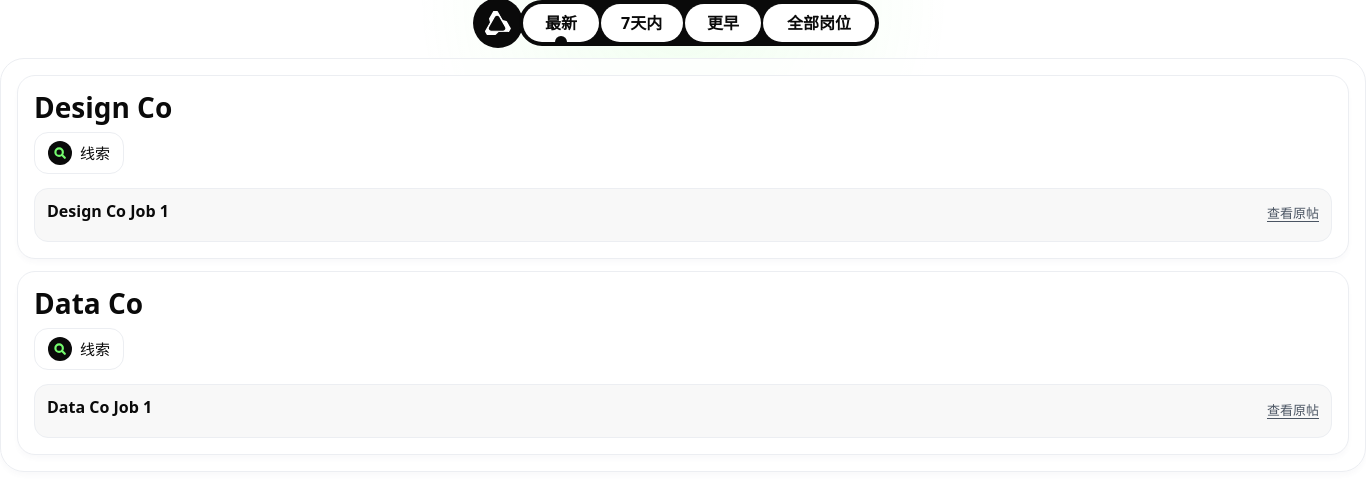
Test: CompanyFeedTimeline › filters visible jobs by backend job category
Expected: the heading "Design Co" is shown, [34,88,172,126]
Expected: the heading "Data Co" is shown, [34,284,143,322]
Click the button "全部岗位" at (819, 23), box [763,4,875,42]
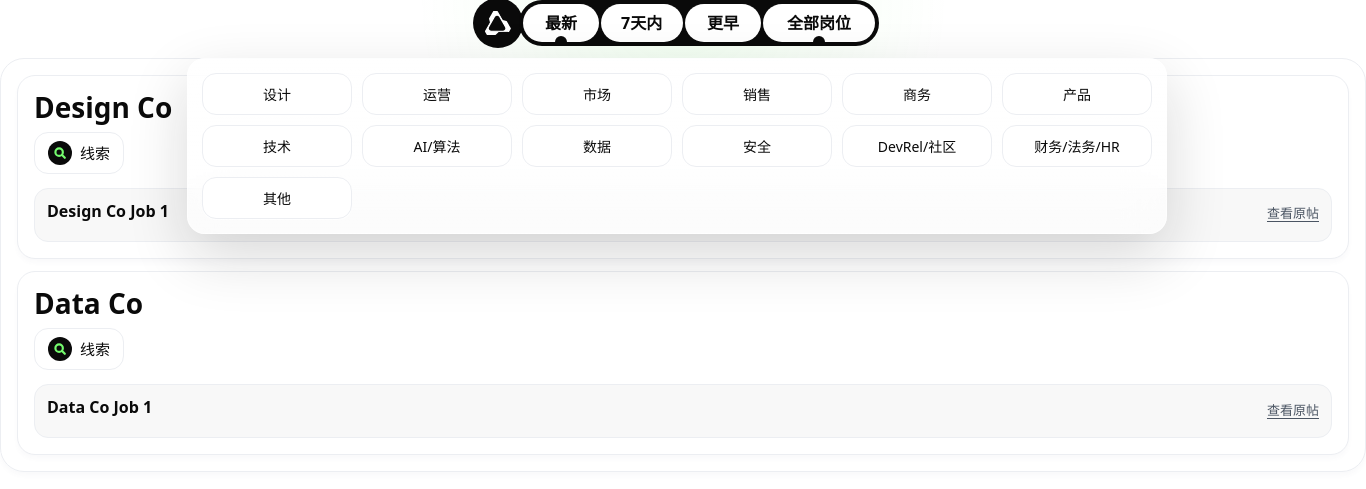
Click the button "设计" at (277, 94), box [202,73,352,115]
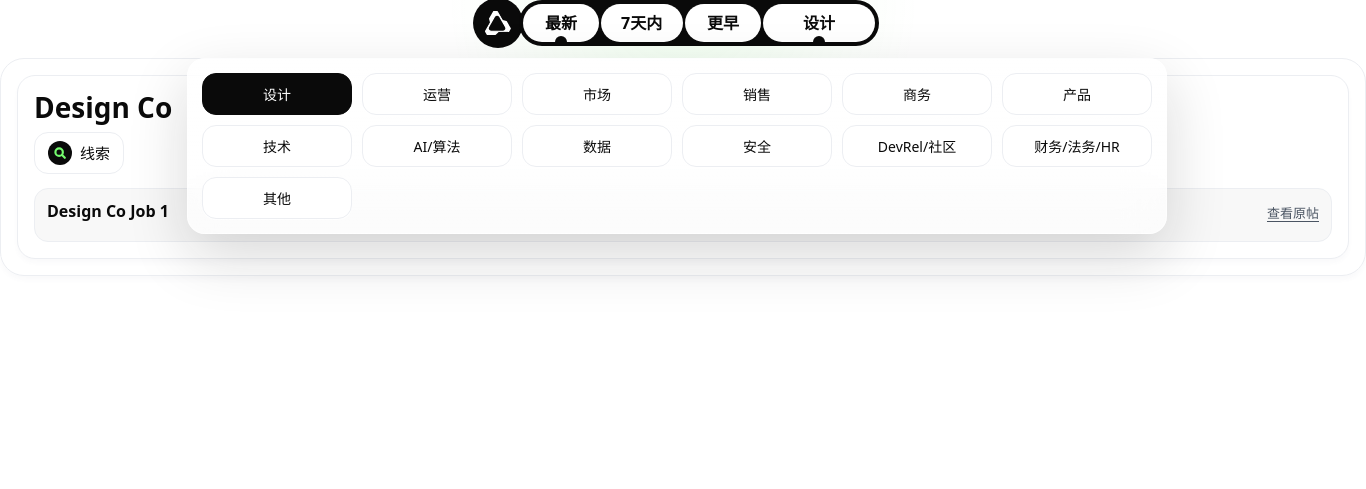
Expected: the heading "Design Co" is shown, [34,88,172,126]
Expected: the heading "Data Co" is gone
